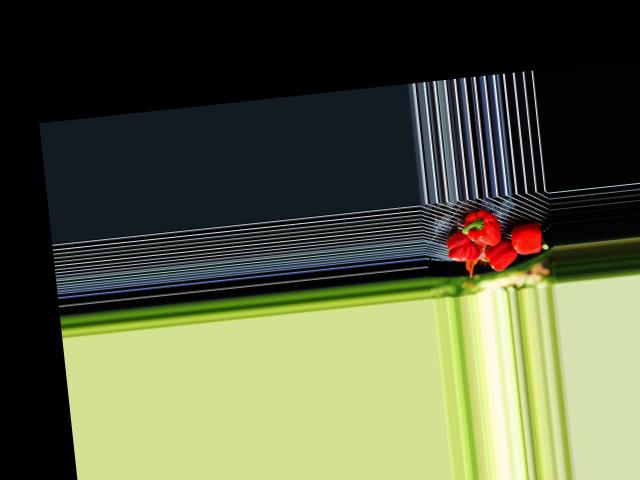bell_pepper: (444, 230, 484, 264)
